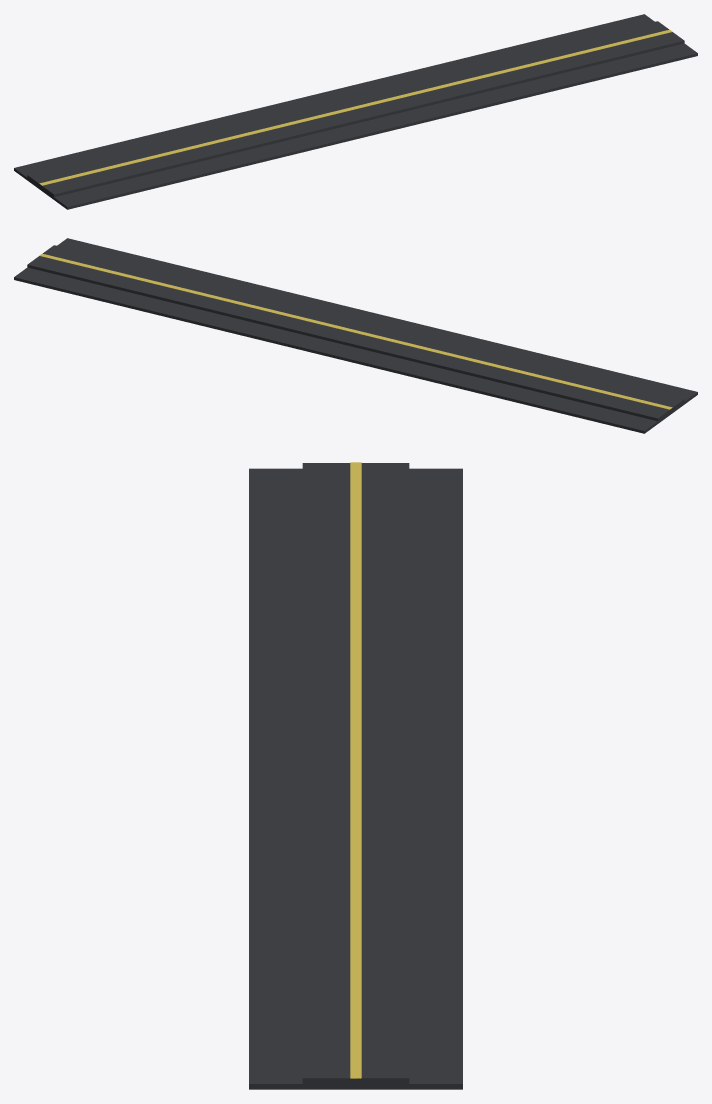
File: Deco_CableRun.gltf
The picture shows the model from 3 angles, top to bottom: view 1: azimuth 30°, elevation 25°; view 2: azimuth 150°, elevation 25°; view 3: azimuth 270°, elevation 25°; orthographic projection. The views are drawn at different scales.
Parts seen in each view (by area): view 1: Deco_CableRun; view 2: Deco_CableRun; view 3: Deco_CableRun.
Part boxes in pixels (left/top/right/bottom): Deco_CableRun: left=14, top=14, right=697, bottom=209; Deco_CableRun: left=14, top=238, right=697, bottom=433; Deco_CableRun: left=249, top=462, right=462, bottom=1089.
Bounding box in the file's own units: 2.51 × 0.022 × 0.368.
